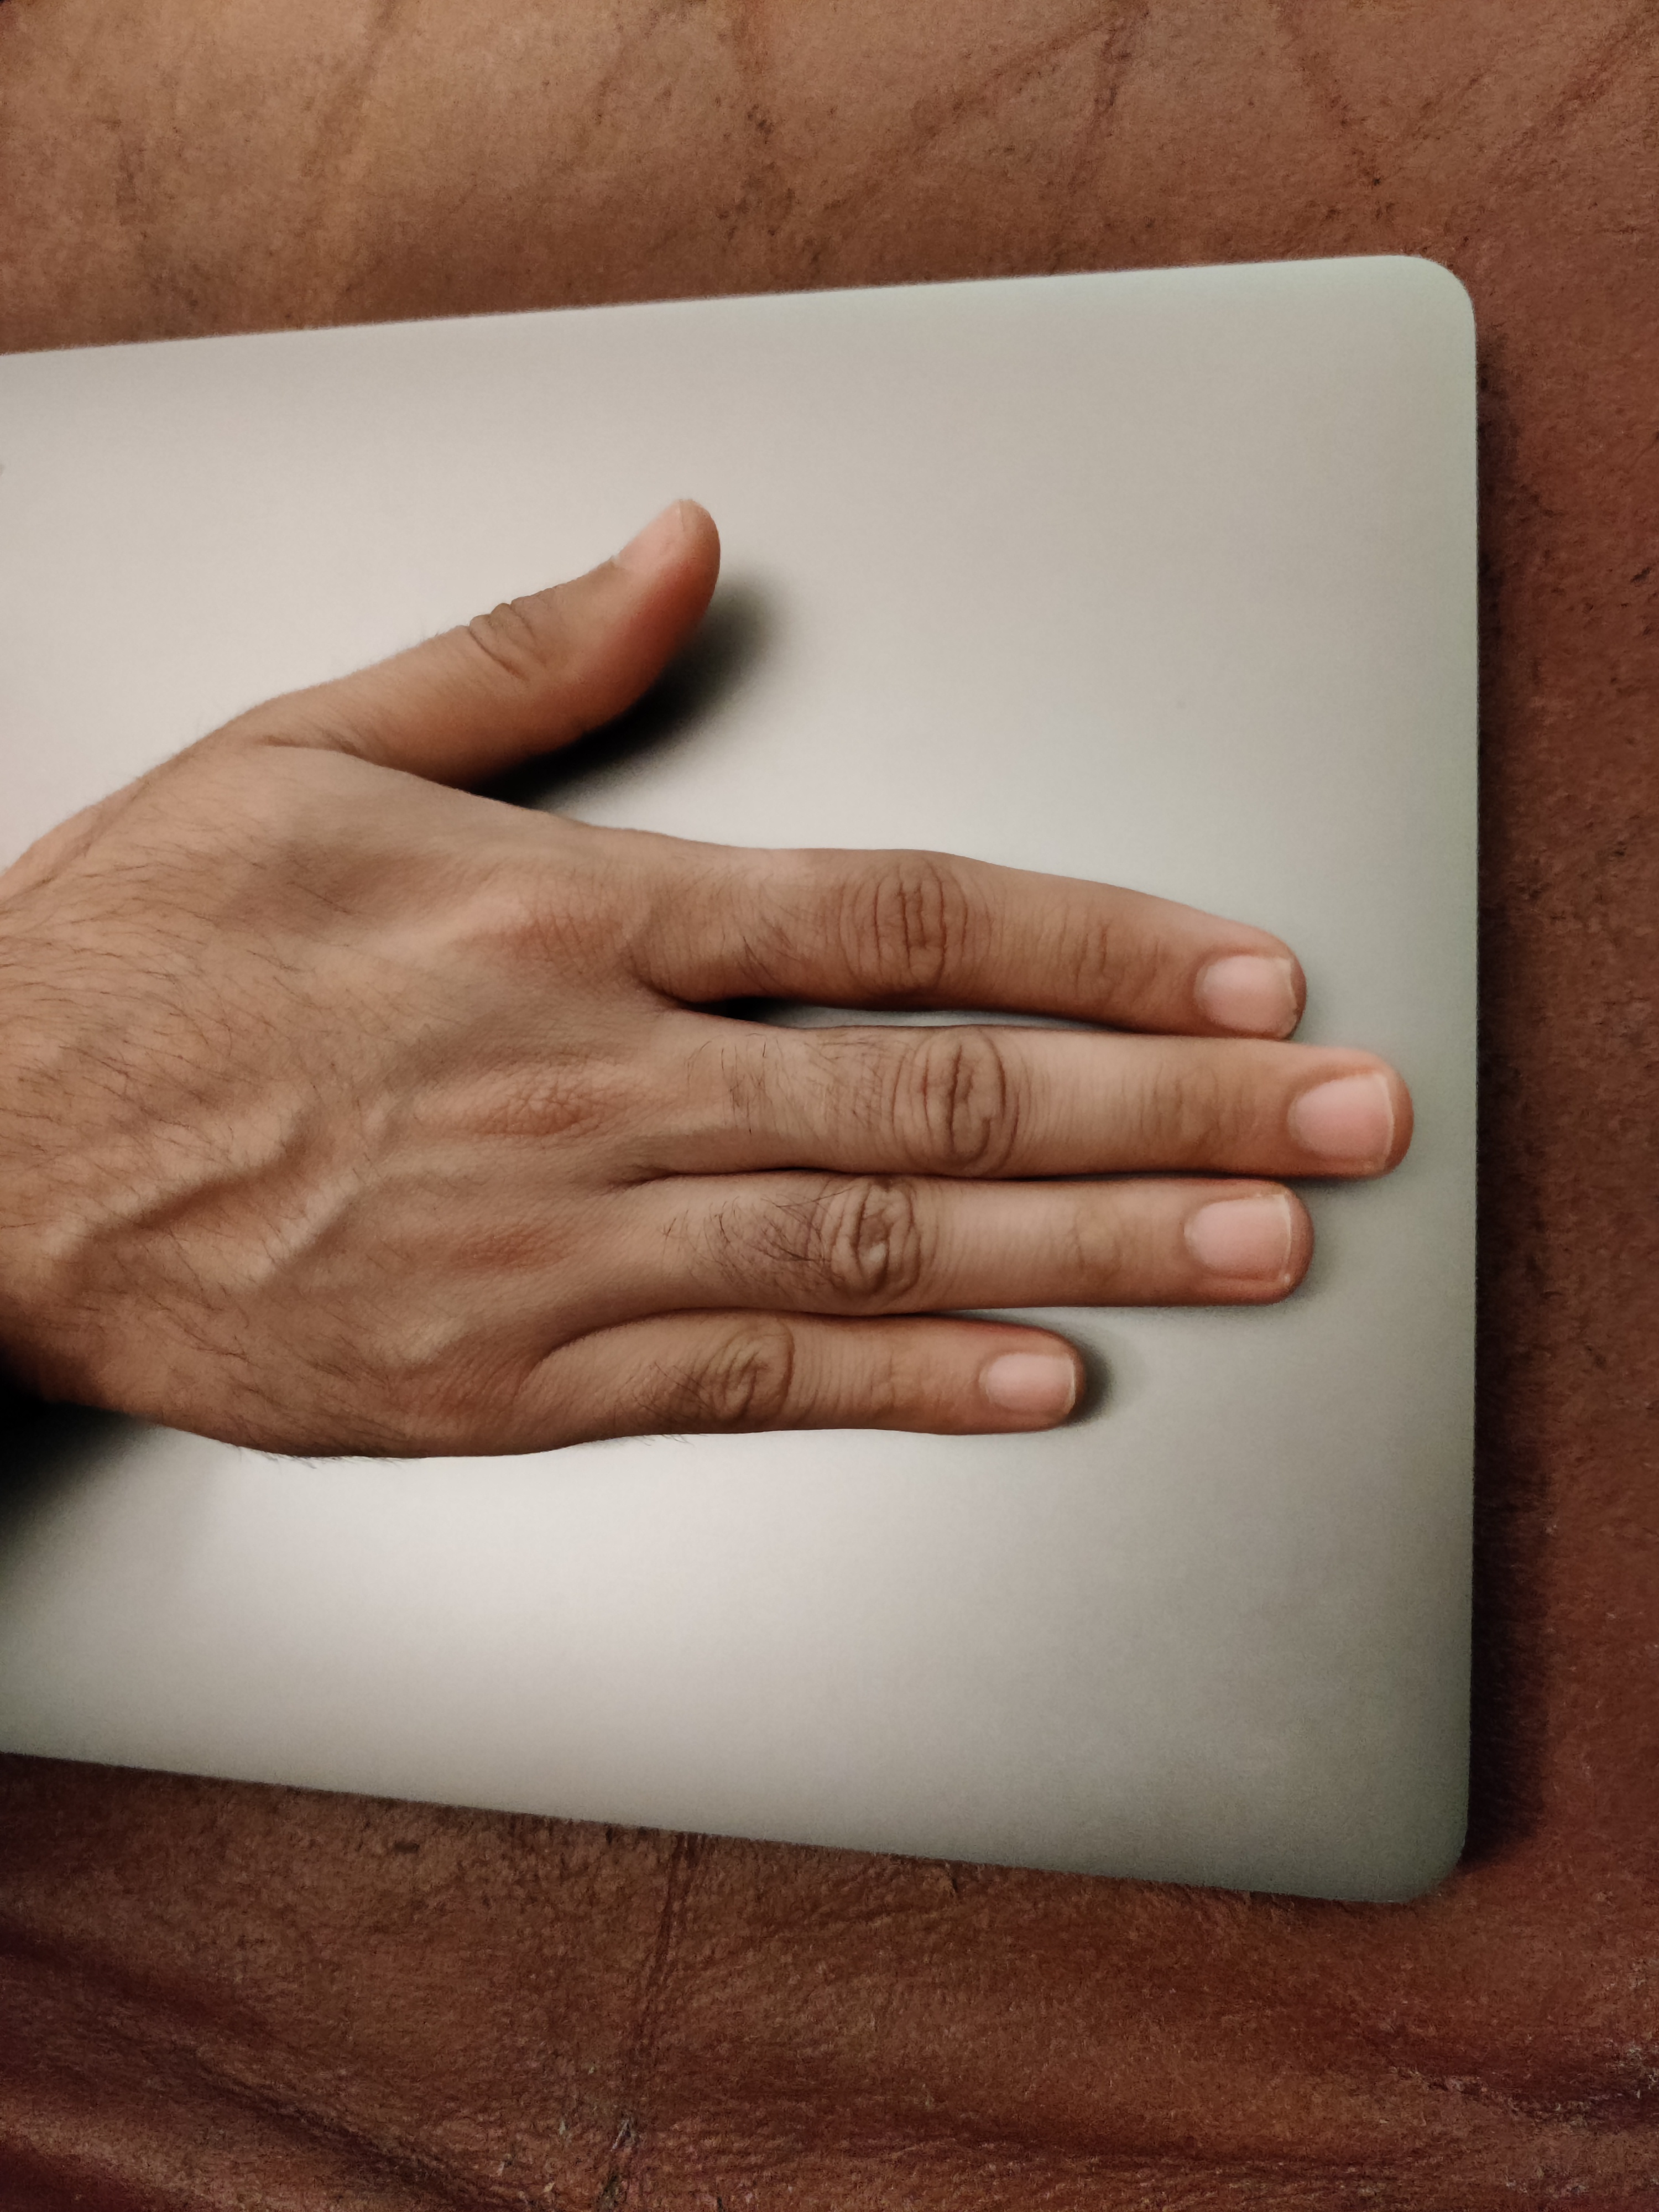left: (61, 246, 1509, 1594)
